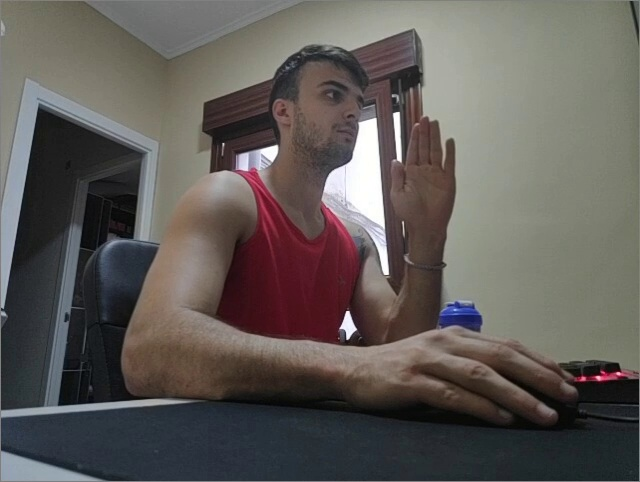Palm: (387, 115, 457, 222)
